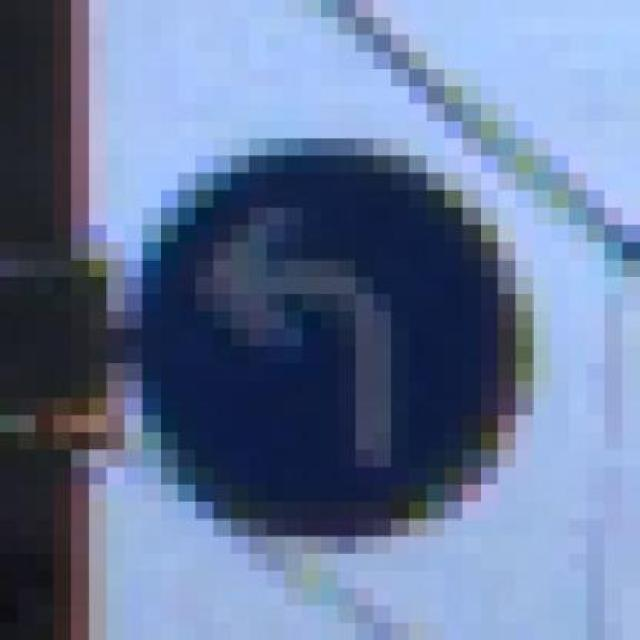Turn left ahead: (125, 121, 569, 553)
